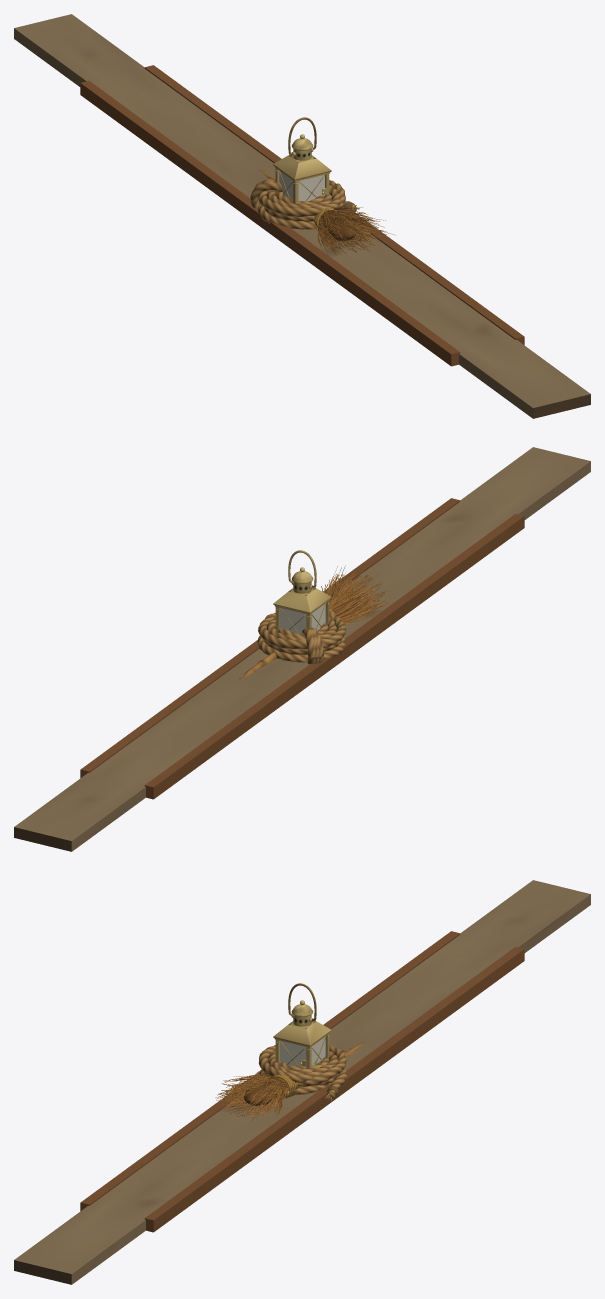
Rendered from items.glb.
3 renders of one model, top to bottom at view 1: azimuth 30°, elevation 25°; view 2: azimuth 150°, elevation 25°; view 3: azimuth 330°, elevation 25°, orthographic.
Parts seen in each view (by area): view 1: plank, ladder, rope, broom, lamp, lamp-glass; view 2: plank, ladder, rope, broom, lamp, lamp-glass; view 3: plank, ladder, broom, rope, lamp, lamp-glass.
Part boxes in pixels (box(x1,y1,x2,y2)): plank: box(14, 14, 590, 418); ladder: box(80, 65, 524, 366); rope: box(250, 179, 359, 229); broom: box(259, 170, 395, 258); lamp: box(273, 117, 331, 203); lamp-glass: box(279, 171, 324, 201); plank: box(14, 447, 590, 851); ladder: box(80, 498, 524, 799); rope: box(257, 612, 346, 664); broom: box(239, 565, 389, 679); lamp: box(273, 550, 331, 634); lamp-glass: box(280, 604, 325, 634); plank: box(14, 880, 590, 1284); ladder: box(80, 931, 524, 1232); broom: box(215, 1041, 365, 1121); rope: box(258, 1045, 347, 1100); lamp: box(273, 983, 331, 1069); lamp-glass: box(280, 1037, 325, 1066).
Size of the model in its own units: 0.6541 by 0.7824 by 7.
